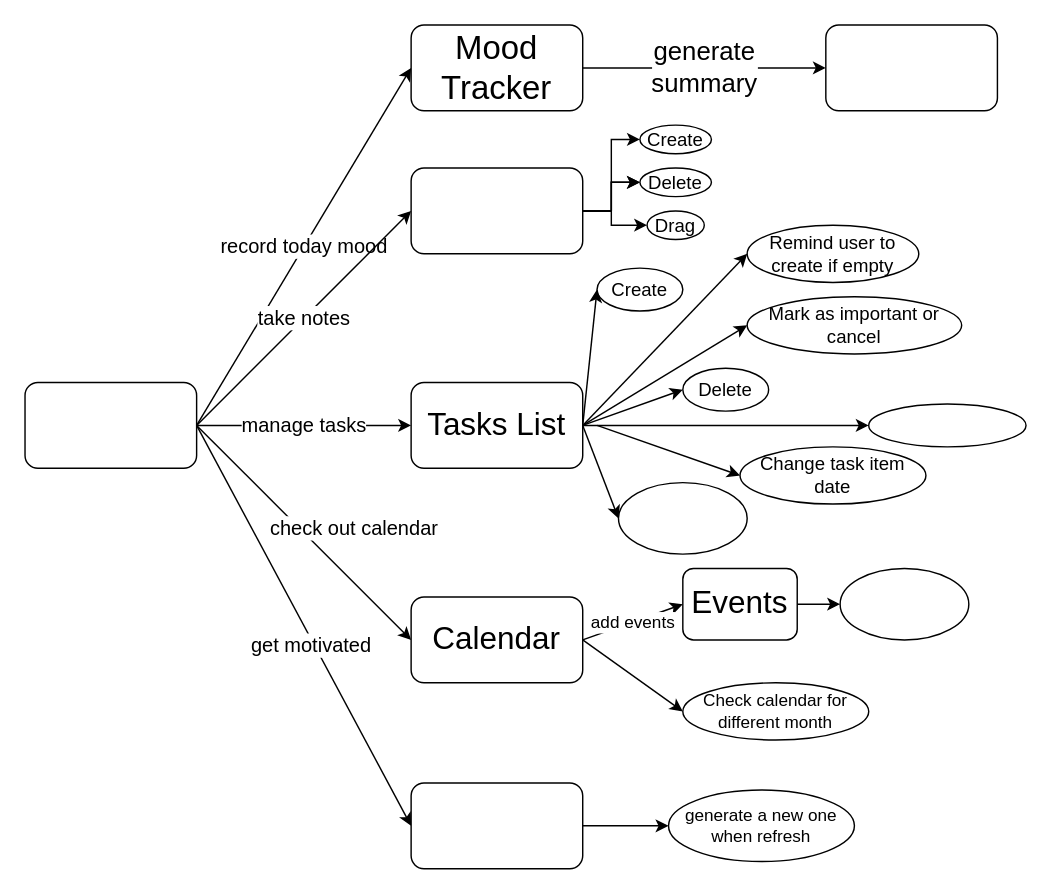
This 1051x894 diagram has some shape labels left out. The shapes that lost their labels are listed below. From the top down, each one's box as (x1, y1, x2, y2) in pixels, then its label:
(824, 24, 997, 111): Mood Tracker Summary
(410, 167, 583, 254): Sticky Notes
(24, 381, 197, 468): User
(867, 403, 1026, 447): Check or uncheck
(617, 481, 747, 554): Drag and drop to reorder
(839, 567, 969, 640): Drag event into calendar
(410, 781, 583, 869): Quote of the day
